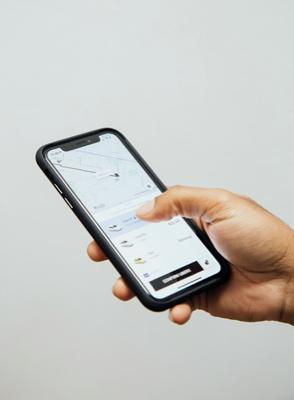Mobile Phone: (34, 126, 231, 312)
